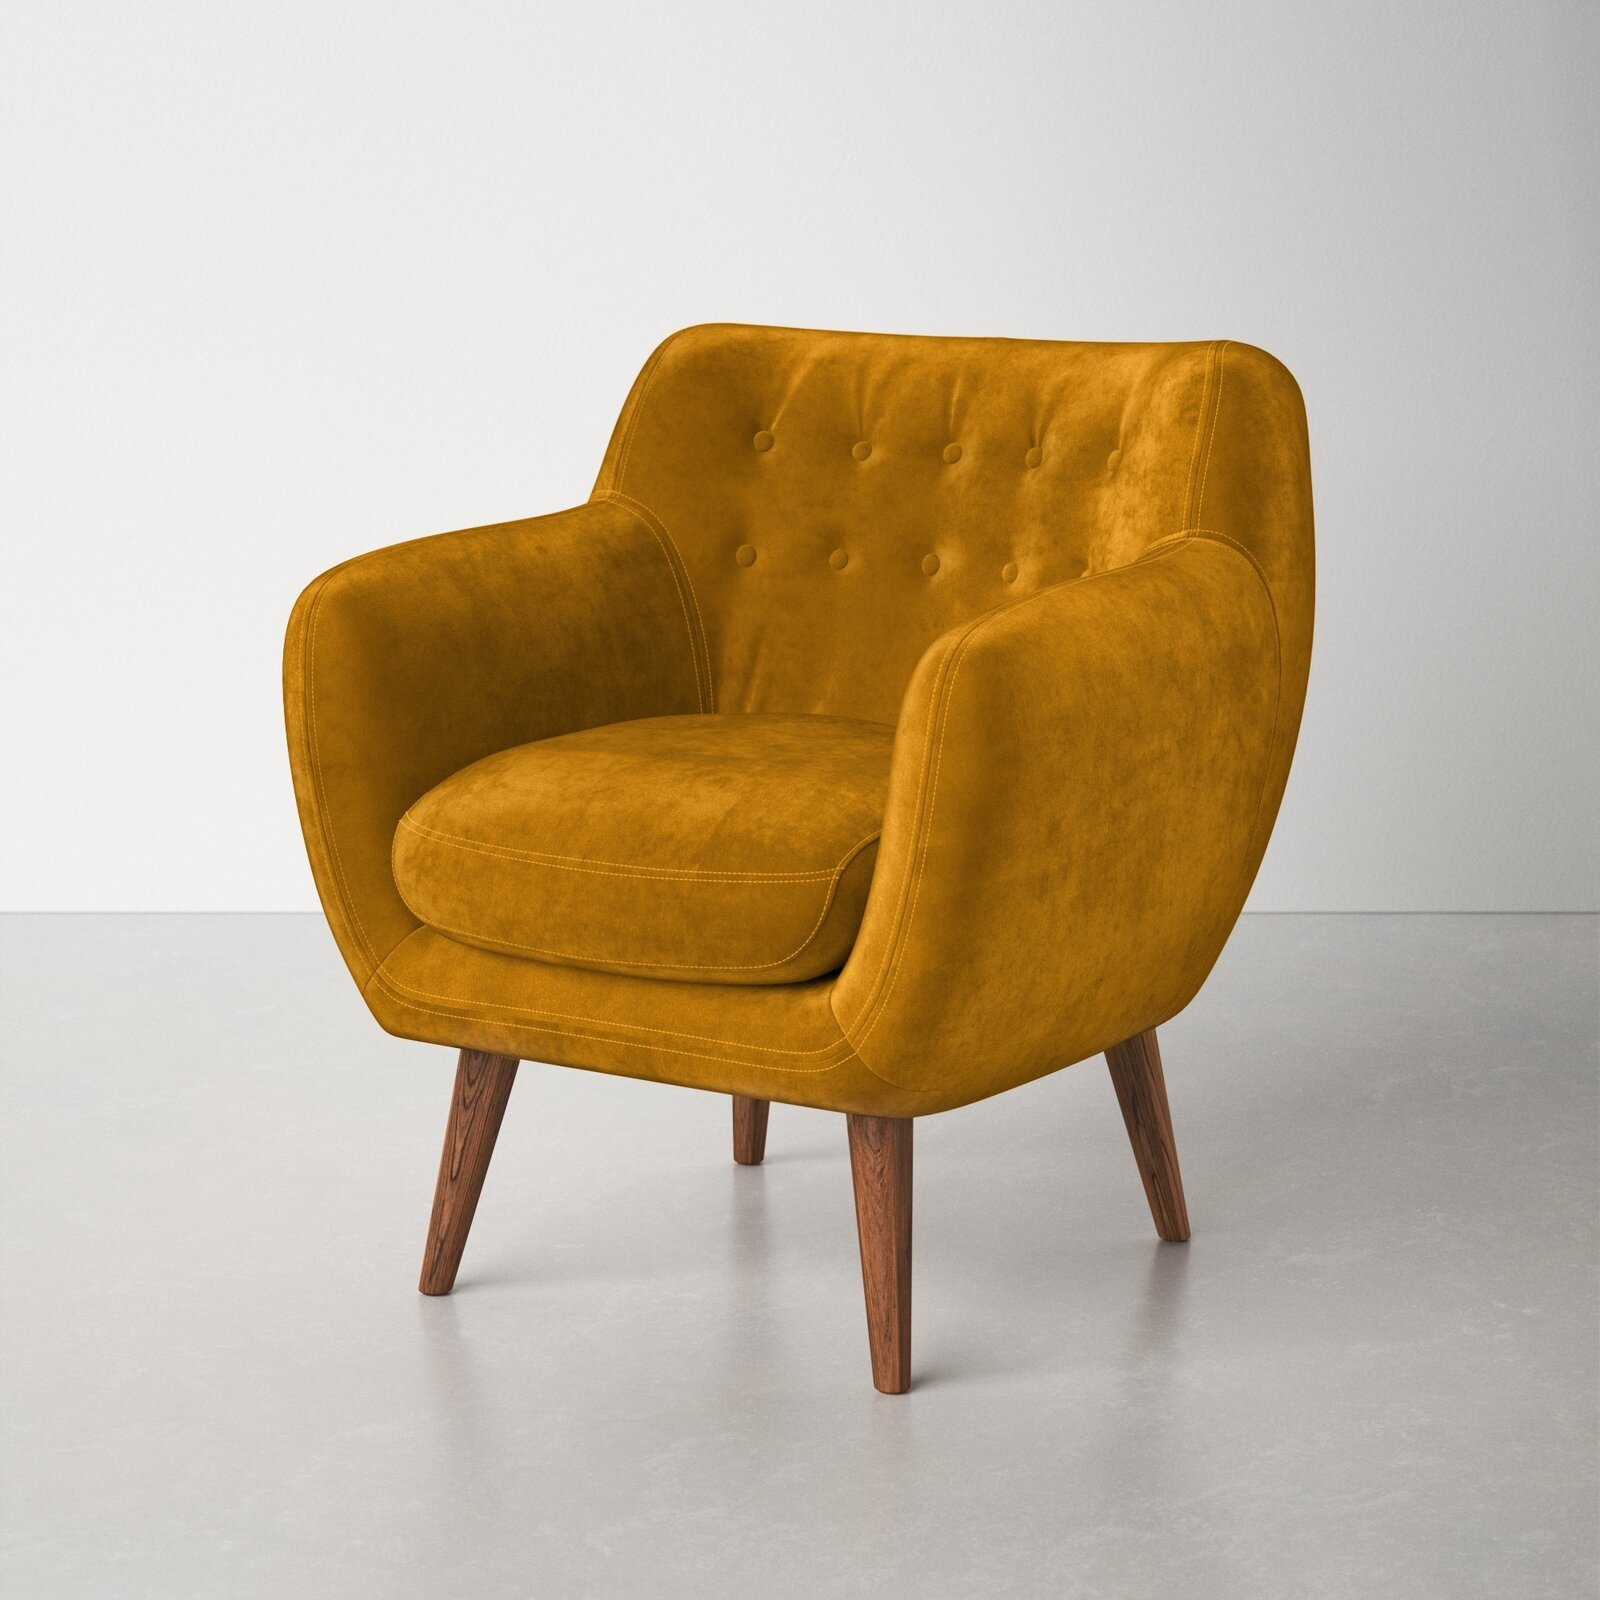obstacle: (286, 325, 1313, 1390)
